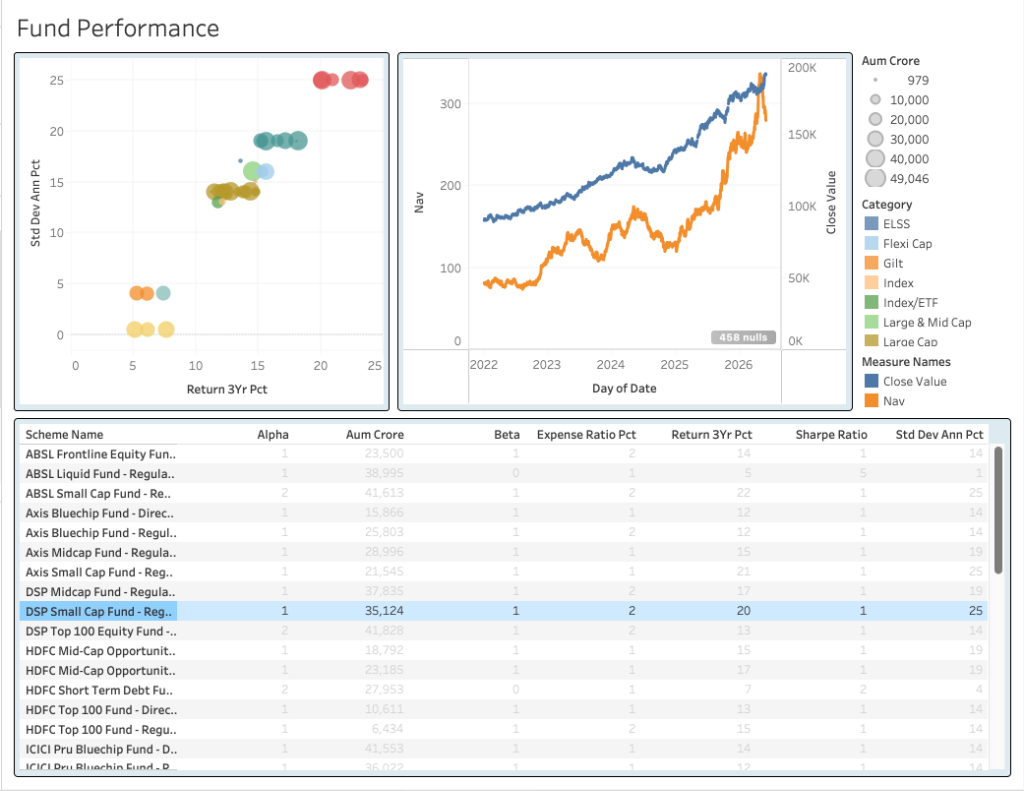

This screenshot's page, from the dashboard's own definition file:
{"tool":"tableau","page":{"name":"Fund Performance","canvas":[1000,1000],"units":"permille","ordinal":1},"visuals":[{"type":"title","box":[7.7,10,830.4,52.3]},{"type":"legend","title":"Risk vs Return","param":"[federated.1x9npye0d8w6zm19b5l4x0r15pcm].[sum:aum_crore:qk]","box":[838.1,10,154.1,181.8]},{"type":"worksheet","title":"Risk vs Return","mark":"Circle","rows":["std_dev_ann_pct"],"cols":["return_3yr_pct"],"box":[7.7,62.3,376.2,437.7]},{"type":"worksheet","title":"NAV vs Benchmark","mark":"Automatic","rows":["nav","close_value"],"cols":["date"],"box":[383.9,62.3,454.2,437.7]},{"type":"legend","title":"Risk vs Return","param":"[federated.1x9npye0d8w6zm19b5l4x0r15pcm].[none:category:nk]","box":[838.1,191.8,154.1,226]},{"type":"legend","title":"NAV vs Benchmark","param":"[federated.035ypkj1rw2k7y116nmvi1765hnp].[:Measure Names]","box":[838.1,417.8,154.1,82.2]},{"type":"worksheet","title":"Fund Scorecard","mark":"Automatic","rows":["scheme_name"],"box":[7.7,500,984.6,490]}]}

Visuals, with their boxes on the dashboard's canvas, which has no fixed pixel size, in thousandths of its width and height (x1, y1, x2, y2). These are canvas units, not pixel positions in the 1024x791 screenshot, which may show the page scaled, cropped or inside an application window:
title: bbox(8, 10, 838, 62)
"Risk vs Return" legend: bbox(838, 10, 992, 192)
"Risk vs Return" worksheet (Circle marks): bbox(8, 62, 384, 500)
"NAV vs Benchmark" worksheet: bbox(384, 62, 838, 500)
"Risk vs Return" legend: bbox(838, 192, 992, 418)
"NAV vs Benchmark" legend: bbox(838, 418, 992, 500)
"Fund Scorecard" worksheet: bbox(8, 500, 992, 990)
